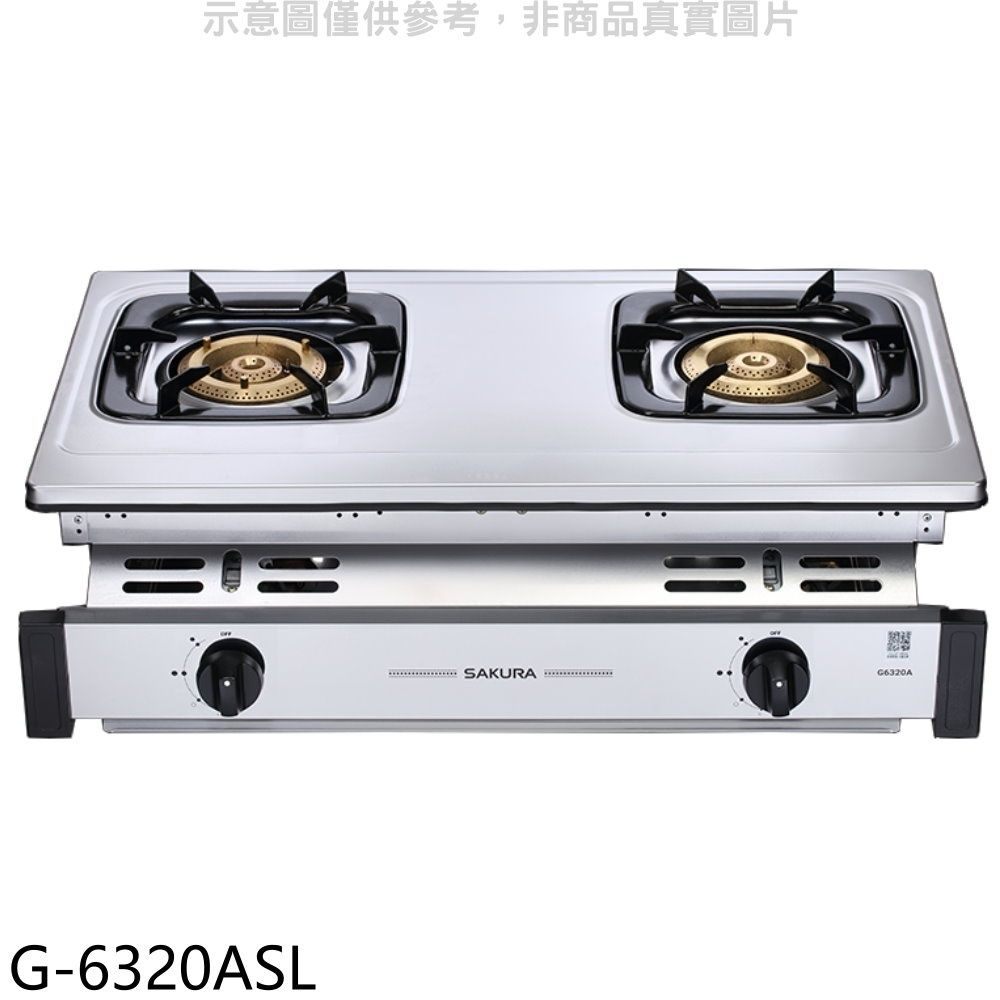gasoven: (14, 239, 990, 754)
